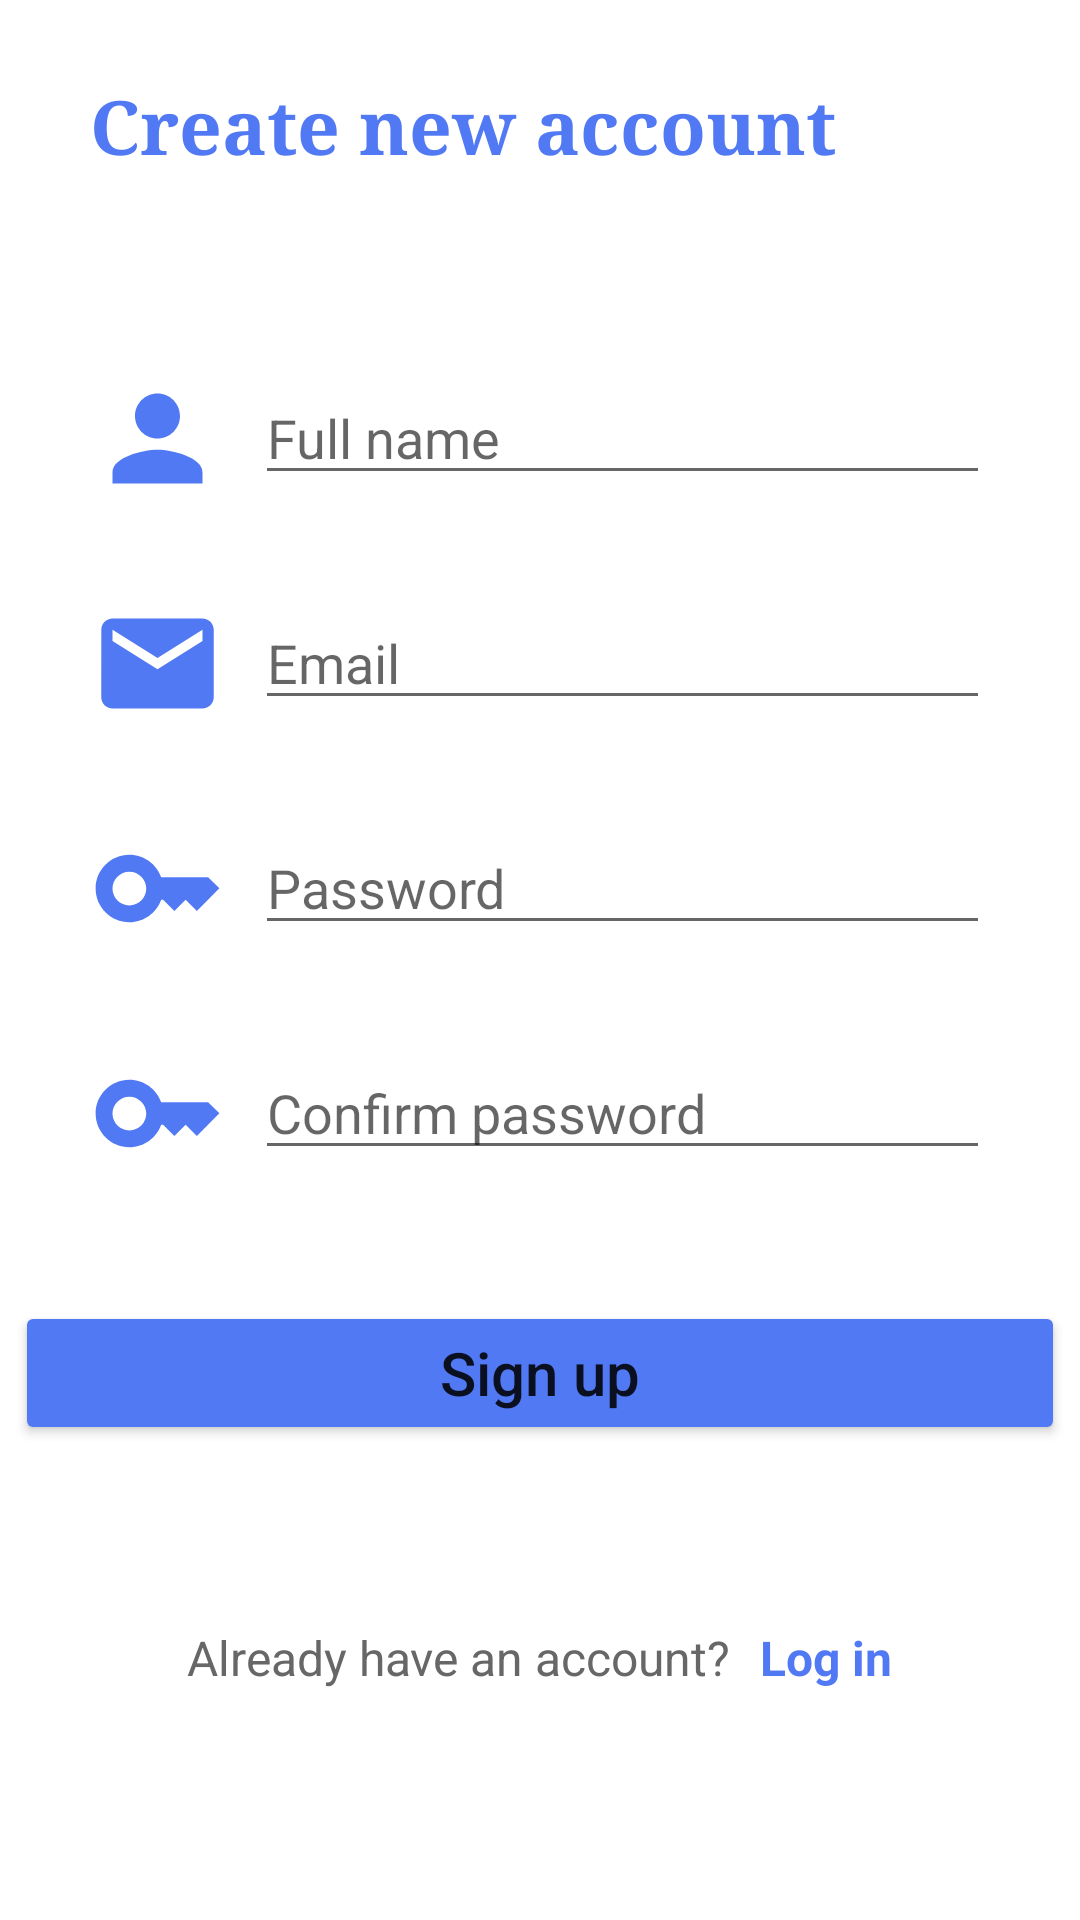

Where to tap for icons on this 1080px x 1920px app screen, as [x,y]:
key: [157,888], [157,1113]
person: [157,438]
